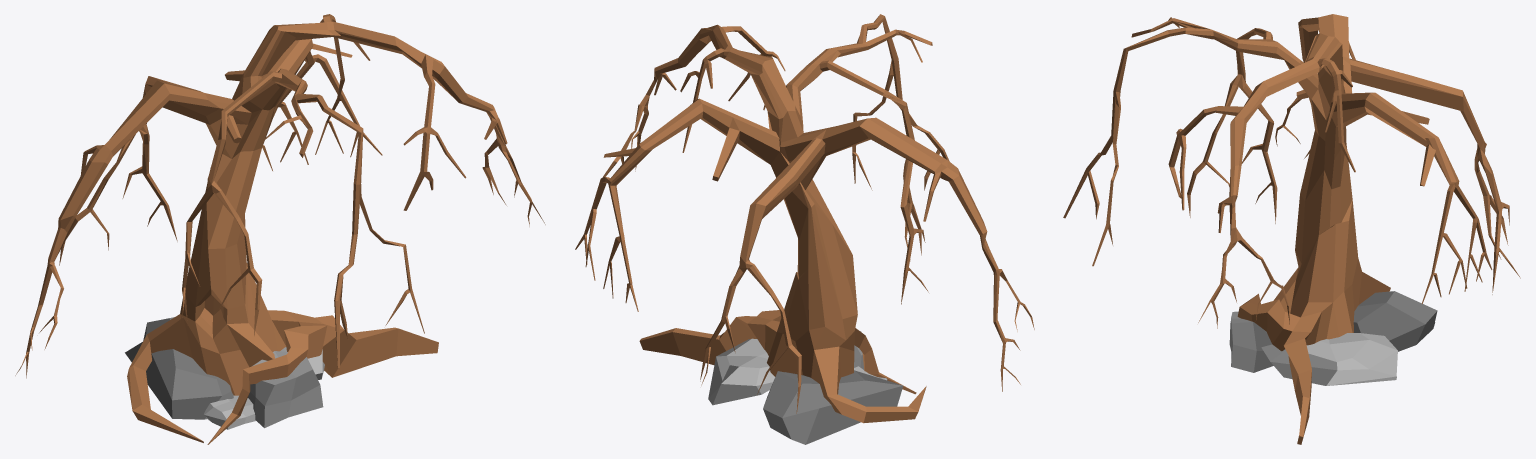
File: huge_tree3.fbx
3 renders of one model, left to right at view 1: azimuth 30°, elevation 25°; view 2: azimuth 150°, elevation 25°; view 3: azimuth 270°, elevation 25°, orthographic. The views are drawn at different scales.
Visible parts, largest first — view 1: Tree, Cube.001, Cube.002, Cube.003; view 2: Tree, Cube.001, Cube.004; view 3: Tree, Cube.004, Cube.001, Cube.002.
Part boxes in pixels (<box>): Tree: <box>15,14,545,444</box>; Cube.001: <box>125,317,233,419</box>; Cube.002: <box>248,351,323,428</box>; Cube.003: <box>204,395,255,429</box>; Tree: <box>575,14,1034,423</box>; Cube.001: <box>763,370,903,444</box>; Cube.004: <box>708,338,775,405</box>; Tree: <box>1063,14,1520,444</box>; Cube.004: <box>1261,333,1397,385</box>; Cube.001: <box>1353,291,1437,351</box>; Cube.002: <box>1229,311,1273,372</box>.
Bounding box in the file's own units: 4145 × 3025 × 3611.
